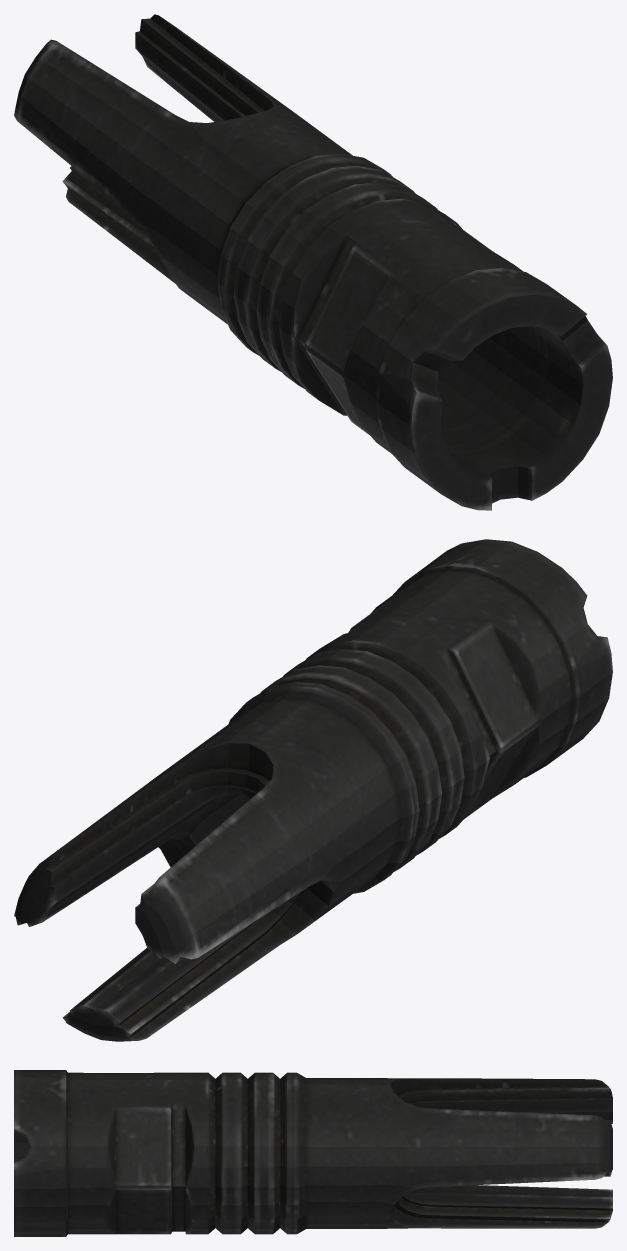
3 views of the same model, one above another, from view 1: azimuth 30°, elevation 25°; view 2: azimuth 150°, elevation 25°; view 3: azimuth 270°, elevation 25° (orthographic). The views are drawn at different scales.
Visible parts, largest first — view 1: TW_618407a850224f204c1da549_PZ_Import; view 2: TW_618407a850224f204c1da549_PZ_Import; view 3: TW_618407a850224f204c1da549_PZ_Import.
Boxes of the visible parts, left/top/right/bottom form: TW_618407a850224f204c1da549_PZ_Import: left=14, top=14, right=612, bottom=510; TW_618407a850224f204c1da549_PZ_Import: left=14, top=539, right=612, bottom=1041; TW_618407a850224f204c1da549_PZ_Import: left=14, top=1070, right=612, bottom=1236.
Size of the model in its own units: 0.0112 by 0.0399 by 0.0112.
Materials: 1 (1 with a texture image).
